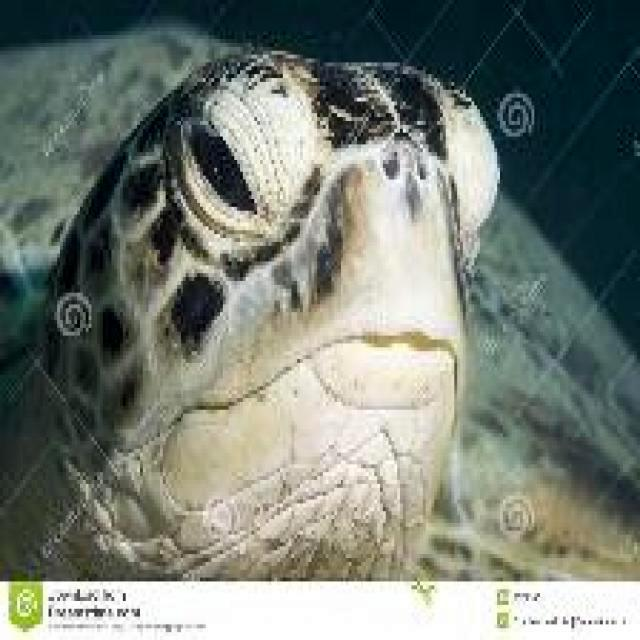Sea turtle: (5, 32, 514, 584)
